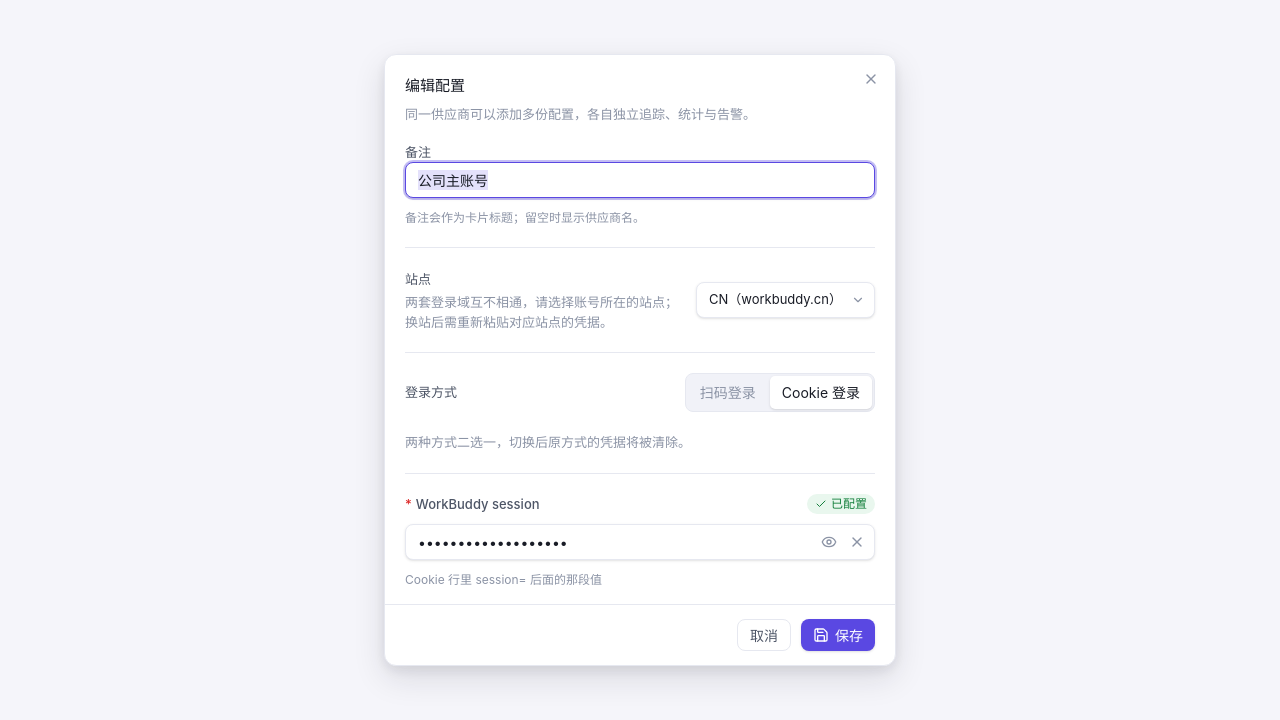
Scenario: 登录方式互斥（ADR-0035） › Cookie 实例切扫码未扫就保存：拦下，不写库
Expected: the password field with id "slot-session" is not empty, x1=405 y1=524 x2=875 y2=560
Click the tab "扫码登录": {"x": 728, "y": 393} x1=688 y1=376 x2=768 y2=409
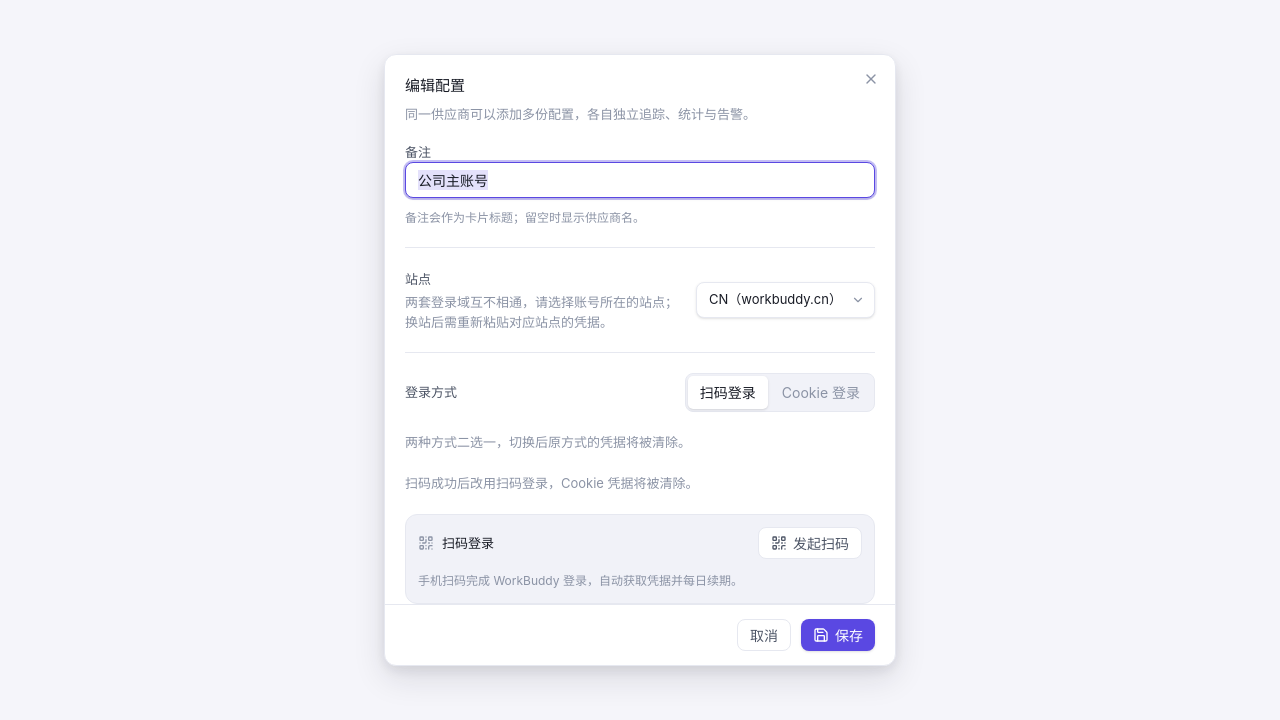
Click the button "保存": {"x": 838, "y": 635} x1=801 y1=619 x2=875 y2=651
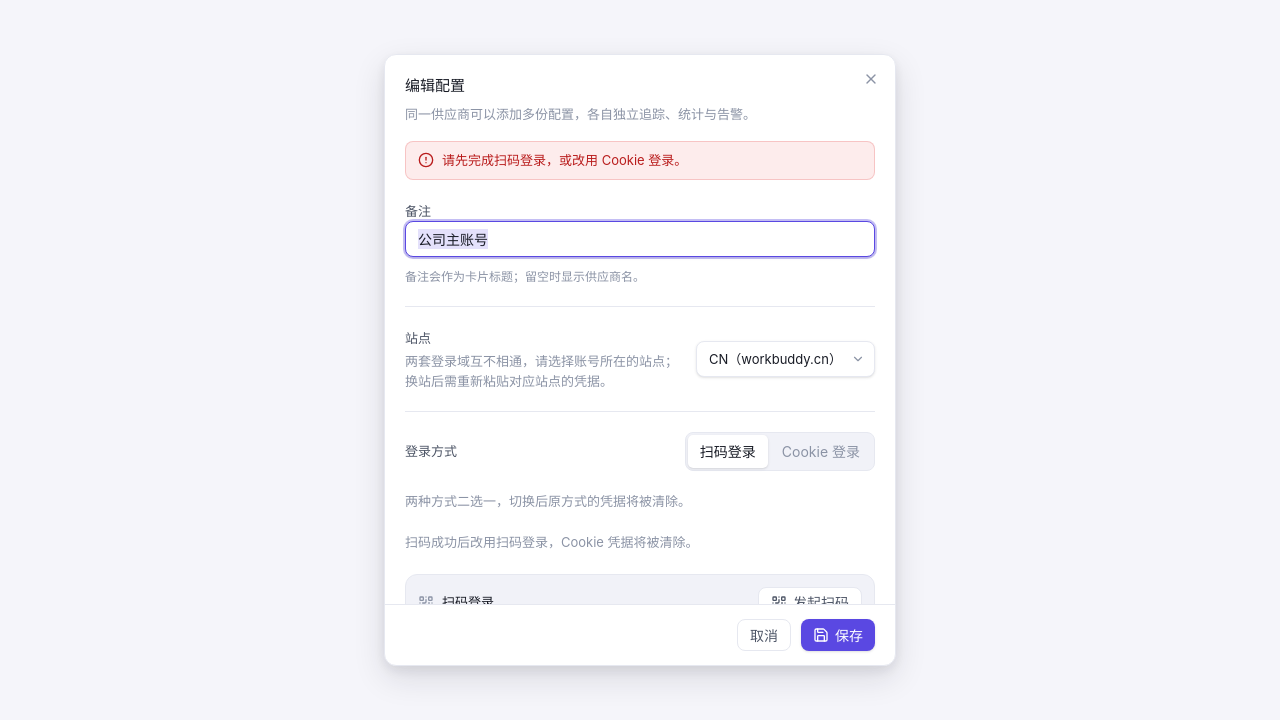
Now the text "请先完成扫码登录，或改用 Cookie 登录。" is shown, box x1=405 y1=141 x2=875 y2=180
